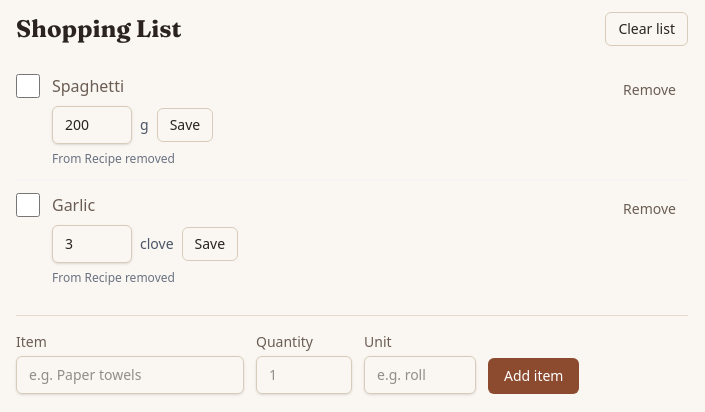
Scenario: ShoppingList (against the typed mock) › removes an item, which disappears from the list (AC6)
Expected: the checkbox labelled "Spaghetti" is shown, [16,74,40,98]
Step 1. Click the button with aria-label "remove spaghetti" → (650, 90), box [611,74,688,106]
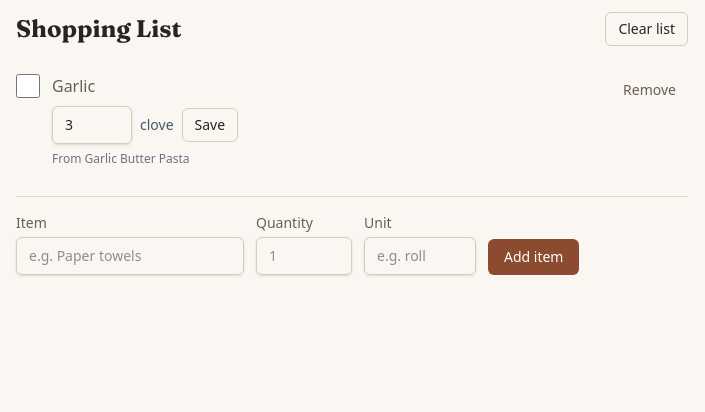
Now the label "Spaghetti" is gone
